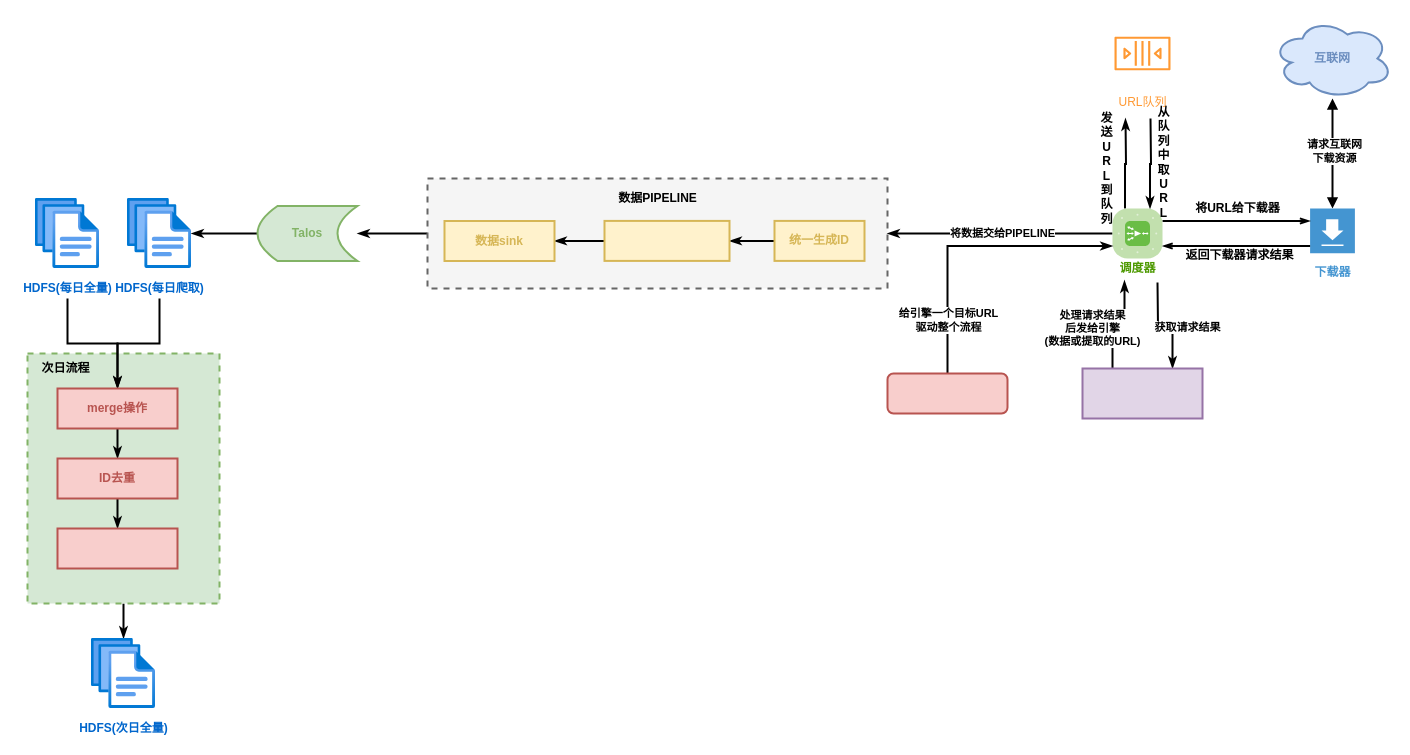
This 1410x755 diagram has some shape labels left out. Each missing label, with the centre of its shape:
信号(一个URL地址): the point at 947,393
声音名称简单清洗去重: the point at 666,240
爬虫处理程序: the point at 1142,393
生成次日全量索引: the point at 117,548
